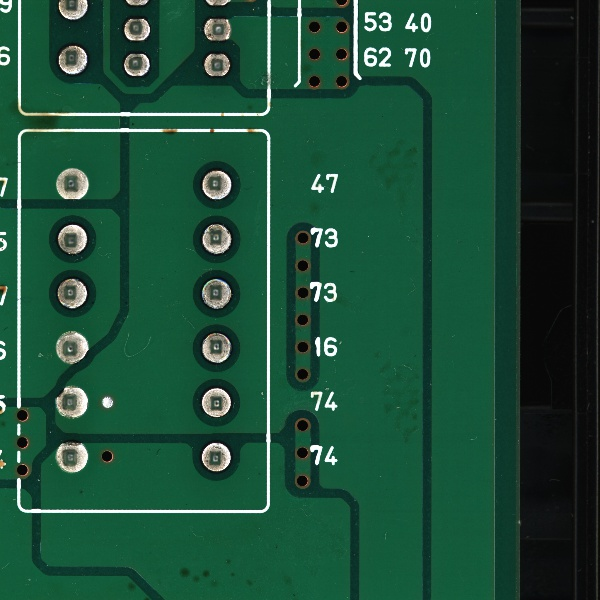Circle: (50, 434, 91, 477), (52, 329, 94, 369), (51, 162, 94, 201), (52, 383, 95, 421), (197, 330, 236, 369), (195, 166, 237, 202), (52, 220, 91, 258), (198, 274, 236, 313), (196, 439, 234, 476), (198, 384, 234, 422), (53, 274, 88, 313), (197, 221, 235, 256), (54, 42, 90, 77), (200, 48, 234, 81), (199, 13, 236, 42), (122, 49, 154, 79), (120, 13, 153, 42)
